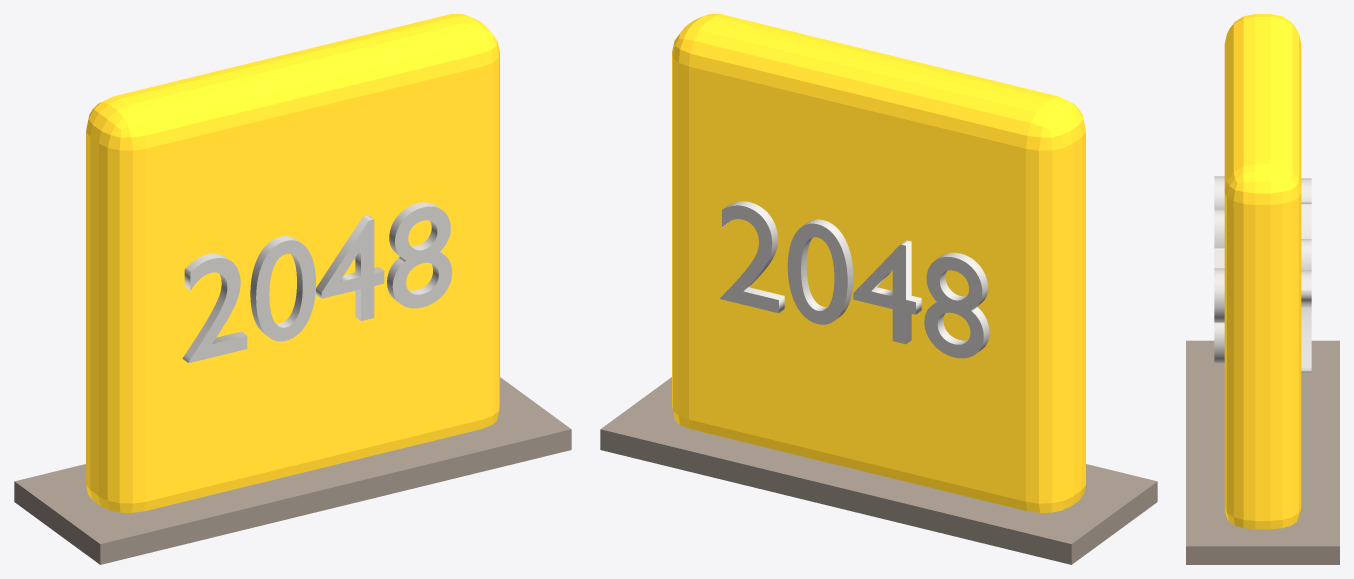
The model's file is monumento.glb.
3 renders of one model, left to right at view 1: azimuth 30°, elevation 25°; view 2: azimuth 150°, elevation 25°; view 3: azimuth 270°, elevation 25°, orthographic. The views are drawn at different scales.
Visible parts, largest first — view 1: Cube; view 2: Cube; view 3: Cube.
Part boxes in pixels (x1,y1,x2,y2): Cube: (14, 14, 571, 564); Cube: (600, 14, 1157, 564); Cube: (1186, 14, 1339, 564).
Size of the model in its own units: 1.9 by 1.6 by 0.6.
